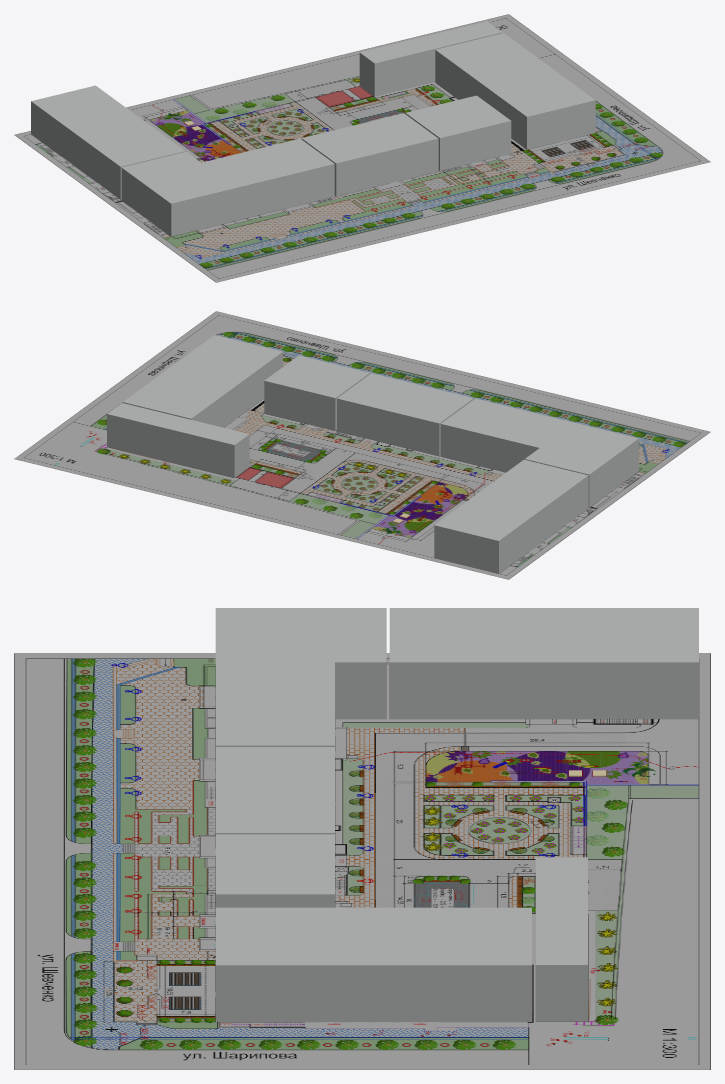
The model's file is palladium_reconstruction_01.glb.
3 renders of one model, top to bottom at view 1: azimuth 30°, elevation 25°; view 2: azimuth 150°, elevation 25°; view 3: azimuth 270°, elevation 25°, orthographic. The views are drawn at different scales.
Visible parts, largest first — view 1: REFERENCE_PDF_NOT_GEOMETRY, BUILDING_02_01_ENVELOPE_HEIGHT_8M_CONDITIONAL, BUILDING_06_01_ENVELOPE_HEIGHT_8M_CONDITIONAL, BUILDING_01_01_ENVELOPE_HEIGHT_8M_CONDITIONAL, BUILDING_03_01_ENVELOPE_HEIGHT_8M_CONDITIONAL, BUILDING_04_01_ENVELOPE_HEIGHT_8M_CONDITIONAL, BUILDING_05_01_ENVELOPE_HEIGHT_8M_CONDITIONAL; view 2: REFERENCE_PDF_NOT_GEOMETRY, BUILDING_02_01_ENVELOPE_HEIGHT_8M_CONDITIONAL, BUILDING_01_01_ENVELOPE_HEIGHT_8M_CONDITIONAL, BUILDING_06_01_ENVELOPE_HEIGHT_8M_CONDITIONAL, BUILDING_03_01_ENVELOPE_HEIGHT_8M_CONDITIONAL, BUILDING_05_01_ENVELOPE_HEIGHT_8M_CONDITIONAL, BUILDING_04_01_ENVELOPE_HEIGHT_8M_CONDITIONAL; view 3: REFERENCE_PDF_NOT_GEOMETRY, BUILDING_06_01_ENVELOPE_HEIGHT_8M_CONDITIONAL, BUILDING_01_01_ENVELOPE_HEIGHT_8M_CONDITIONAL, BUILDING_02_01_ENVELOPE_HEIGHT_8M_CONDITIONAL, BUILDING_03_01_ENVELOPE_HEIGHT_8M_CONDITIONAL, BUILDING_04_01_ENVELOPE_HEIGHT_8M_CONDITIONAL, BUILDING_05_01_ENVELOPE_HEIGHT_8M_CONDITIONAL.
Part boxes in pixels (left/top/right/bottom): REFERENCE_PDF_NOT_GEOMETRY: left=14, top=14, right=710, bottom=282; BUILDING_02_01_ENVELOPE_HEIGHT_8M_CONDITIONAL: left=121, top=138, right=334, bottom=236; BUILDING_06_01_ENVELOPE_HEIGHT_8M_CONDITIONAL: left=435, top=33, right=595, bottom=149; BUILDING_01_01_ENVELOPE_HEIGHT_8M_CONDITIONAL: left=31, top=85, right=185, bottom=199; BUILDING_03_01_ENVELOPE_HEIGHT_8M_CONDITIONAL: left=301, top=113, right=438, bottom=196; BUILDING_04_01_ENVELOPE_HEIGHT_8M_CONDITIONAL: left=405, top=95, right=511, bottom=170; BUILDING_05_01_ENVELOPE_HEIGHT_8M_CONDITIONAL: left=359, top=21, right=502, bottom=96; REFERENCE_PDF_NOT_GEOMETRY: left=14, top=311, right=710, bottom=579; BUILDING_02_01_ENVELOPE_HEIGHT_8M_CONDITIONAL: left=440, top=398, right=638, bottom=507; BUILDING_01_01_ENVELOPE_HEIGHT_8M_CONDITIONAL: left=434, top=459, right=588, bottom=573; BUILDING_06_01_ENVELOPE_HEIGHT_8M_CONDITIONAL: left=122, top=335, right=282, bottom=427; BUILDING_03_01_ENVELOPE_HEIGHT_8M_CONDITIONAL: left=337, top=373, right=473, bottom=456; BUILDING_05_01_ENVELOPE_HEIGHT_8M_CONDITIONAL: left=107, top=403, right=249, bottom=477; BUILDING_04_01_ENVELOPE_HEIGHT_8M_CONDITIONAL: left=264, top=355, right=369, bottom=430; REFERENCE_PDF_NOT_GEOMETRY: left=14, top=653, right=710, bottom=1069; BUILDING_06_01_ENVELOPE_HEIGHT_8M_CONDITIONAL: left=215, top=907, right=531, bottom=1021; BUILDING_01_01_ENVELOPE_HEIGHT_8M_CONDITIONAL: left=389, top=608, right=698, bottom=718; BUILDING_02_01_ENVELOPE_HEIGHT_8M_CONDITIONAL: left=215, top=608, right=386, bottom=746; BUILDING_03_01_ENVELOPE_HEIGHT_8M_CONDITIONAL: left=215, top=747, right=334, bottom=834; BUILDING_04_01_ENVELOPE_HEIGHT_8M_CONDITIONAL: left=215, top=834, right=334, bottom=907; BUILDING_05_01_ENVELOPE_HEIGHT_8M_CONDITIONAL: left=535, top=857, right=587, bottom=1021.
Bounding box in the file's own units: 126 × 8.02 × 89.15.
Materials: 1 (1 with a texture image).
